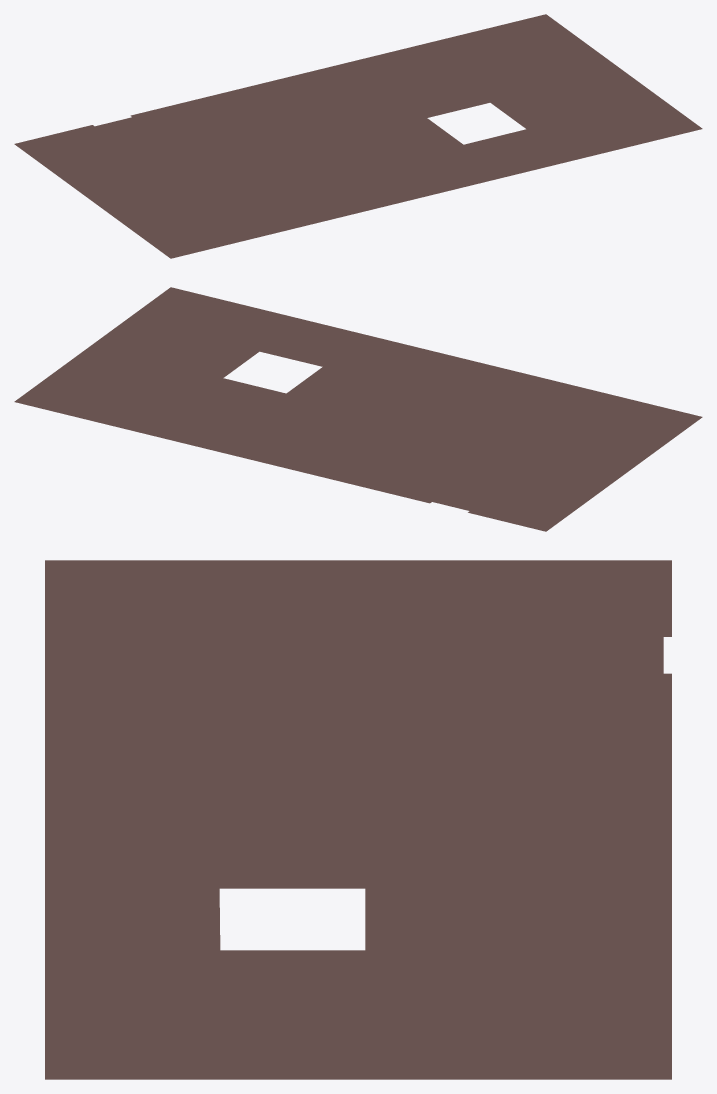
3 views of the same model, one above another, from view 1: azimuth 30°, elevation 25°; view 2: azimuth 150°, elevation 25°; view 3: azimuth 270°, elevation 25° (orthographic). The views are drawn at different scales.
Parts seen in each view (by area): view 1: Platform.019; view 2: Platform.019; view 3: Platform.019.
Part boxes in pixels (<box>): Platform.019: <box>14,14,702,258</box>; Platform.019: <box>14,287,702,531</box>; Platform.019: <box>45,560,671,1079</box>.
Size of the model in its own units: 29787 by 0.0772 by 15204.
